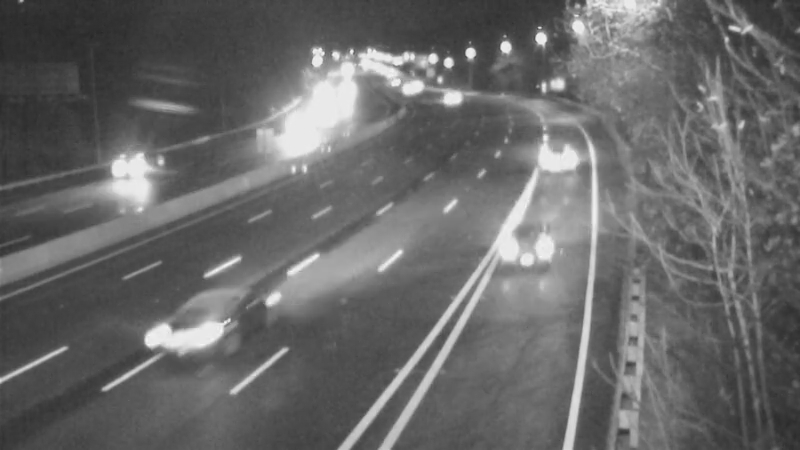vehicle: (132, 282, 242, 392), (513, 123, 593, 203), (483, 215, 563, 295), (83, 132, 163, 212), (421, 73, 471, 123), (267, 117, 317, 167)
